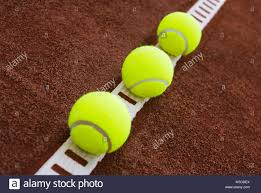tennis_ball: (67, 90, 132, 155), (122, 44, 172, 98), (157, 11, 202, 57)
